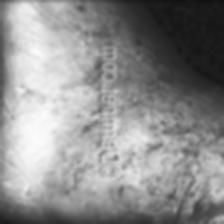Non-Cancerous Skin Condition: (118, 21, 224, 224), (37, 0, 97, 216)
